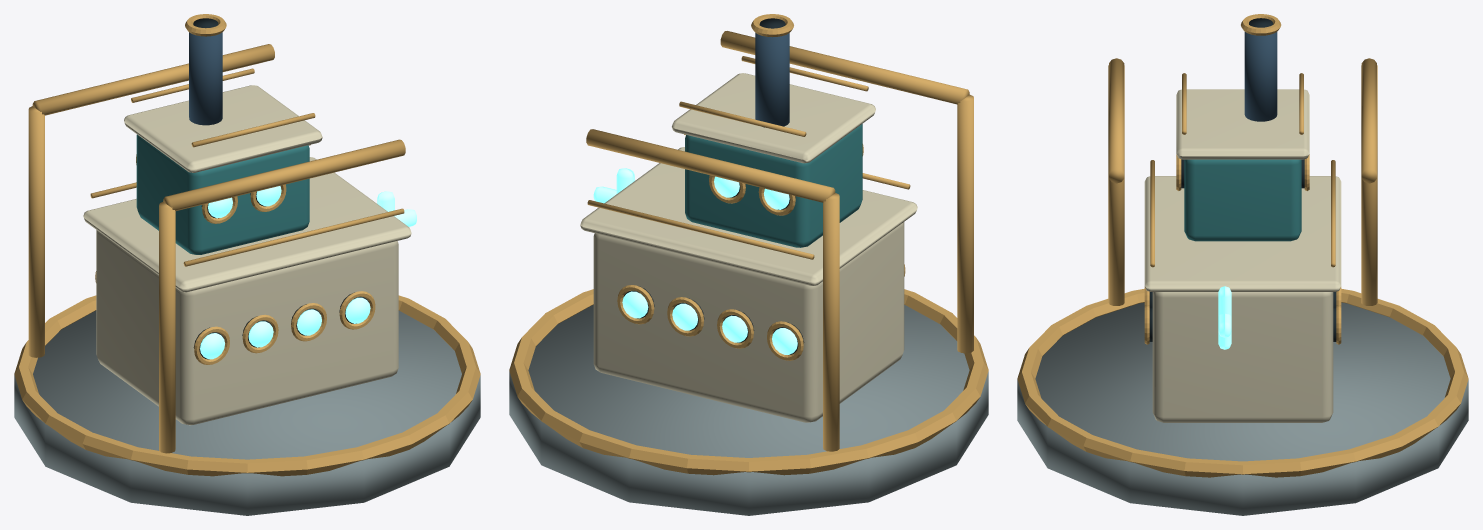
The model's file is repair.glb.
3 views of the same model, side by side, from view 1: azimuth 30°, elevation 25°; view 2: azimuth 150°, elevation 25°; view 3: azimuth 270°, elevation 25° (orthographic). The views are drawn at different scales.
Parts seen in each view (by area): view 1: repair / Ceramic | warm ivory, repair / Iron | weathered steel, repair / Brass | machined champagne, repair / Paint | North Sea petrol, repair / Glass | luminous mint, repair / Paint | Prussian blue, repair / Rubber | dark insets; view 2: repair / Ceramic | warm ivory, repair / Iron | weathered steel, repair / Brass | machined champagne, repair / Paint | North Sea petrol, repair / Glass | luminous mint, repair / Paint | Prussian blue, repair / Rubber | dark insets; view 3: repair / Iron | weathered steel, repair / Ceramic | warm ivory, repair / Brass | machined champagne, repair / Paint | North Sea petrol, repair / Paint | Prussian blue, repair / Glass | luminous mint, repair / Rubber | dark insets.
Boxes of the visible parts, <box> form: repair / Ceramic | warm ivory: <box>83,85,411,425</box>; repair / Iron | weathered steel: <box>14,310,480,515</box>; repair / Brass | machined champagne: <box>14,14,480,476</box>; repair / Paint | North Sea petrol: <box>136,134,309,254</box>; repair / Glass | luminous mint: <box>200,186,416,359</box>; repair / Paint | Prussian blue: <box>189,32,222,125</box>; repair / Rubber | dark insets: <box>193,18,369,359</box>; repair / Ceramic | warm ivory: <box>580,73,917,422</box>; repair / Iron | weathered steel: <box>509,305,988,515</box>; repair / Brass | machined champagne: <box>509,14,988,475</box>; repair / Paint | North Sea petrol: <box>685,124,862,247</box>; repair / Glass | luminous mint: <box>593,168,797,354</box>; repair / Paint | Prussian blue: <box>755,33,789,127</box>; repair / Rubber | dark insets: <box>624,18,804,355</box>; repair / Iron | weathered steel: <box>1017,302,1468,515</box>; repair / Ceramic | warm ivory: <box>1144,89,1341,422</box>; repair / Brass | machined champagne: <box>1017,14,1468,477</box>; repair / Paint | North Sea petrol: <box>1184,159,1301,241</box>; repair / Paint | Prussian blue: <box>1244,32,1277,121</box>; repair / Glass | luminous mint: <box>1218,286,1231,349</box>; repair / Rubber | dark insets: <box>1149,18,1336,341</box>.
Bounding box in the file's own units: 5 × 4.69 × 5.
